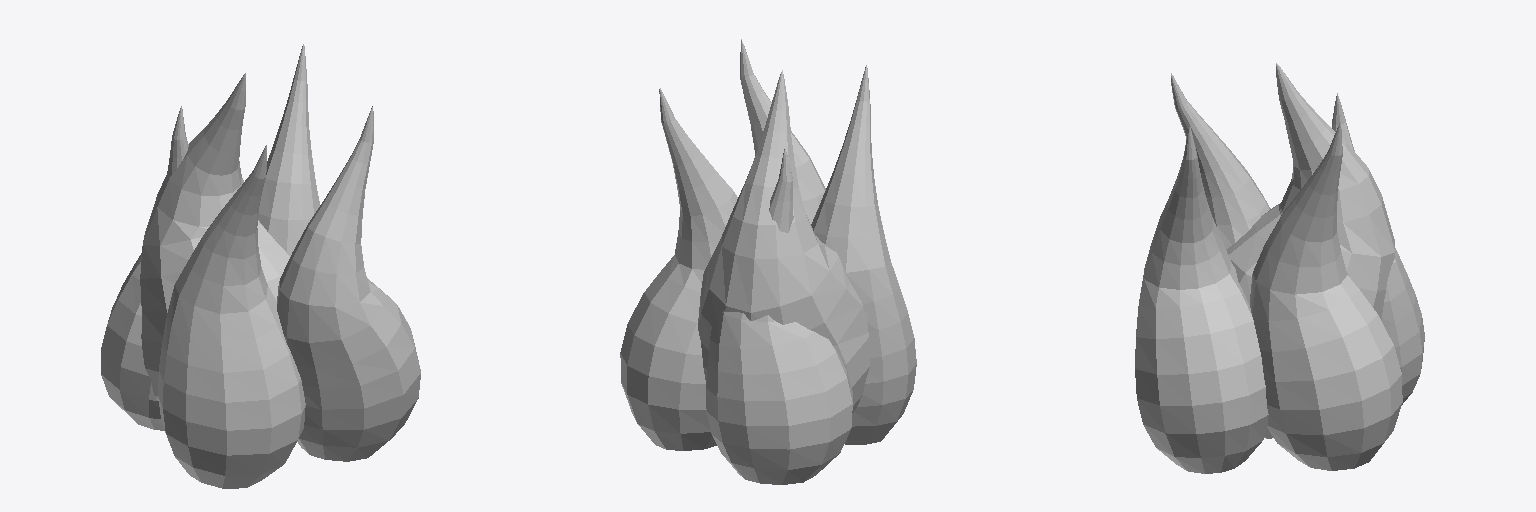
File: fire_000017.obj
3 renders of one model, left to right at view 1: azimuth 30°, elevation 25°; view 2: azimuth 150°, elevation 25°; view 3: azimuth 270°, elevation 25°, orthographic.
Visible parts, largest first — view 1: flame_NurbsPath.015; view 2: flame_NurbsPath.015; view 3: flame_NurbsPath.015.
Boxes of the visible parts, x1=… form: flame_NurbsPath.015: x1=101, y1=44, x2=420, y2=488; flame_NurbsPath.015: x1=620, y1=39, x2=916, y2=484; flame_NurbsPath.015: x1=1135, y1=63, x2=1424, y2=473.
Bounding box in the file's own units: 0.7535 × 1.16 × 0.8099.